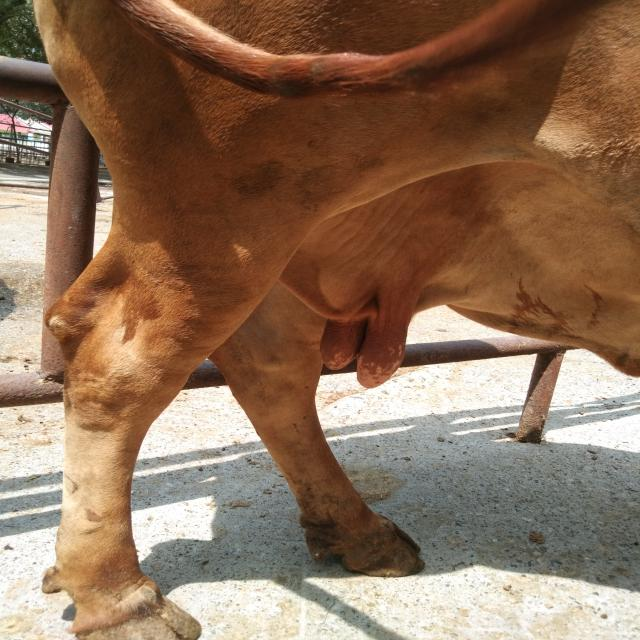Hoof: (301, 513, 425, 578), (68, 584, 202, 639)
